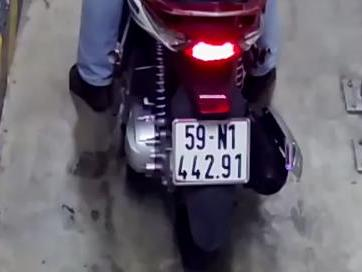num_plate: (170, 117, 251, 187)
